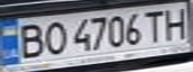0: (106, 11, 127, 48)
4: (69, 16, 93, 53)
6: (124, 10, 148, 46)
7: (87, 13, 109, 51)
B: (12, 20, 48, 60)
H: (160, 4, 190, 40)
O: (39, 19, 69, 56)
T: (142, 8, 169, 43)
